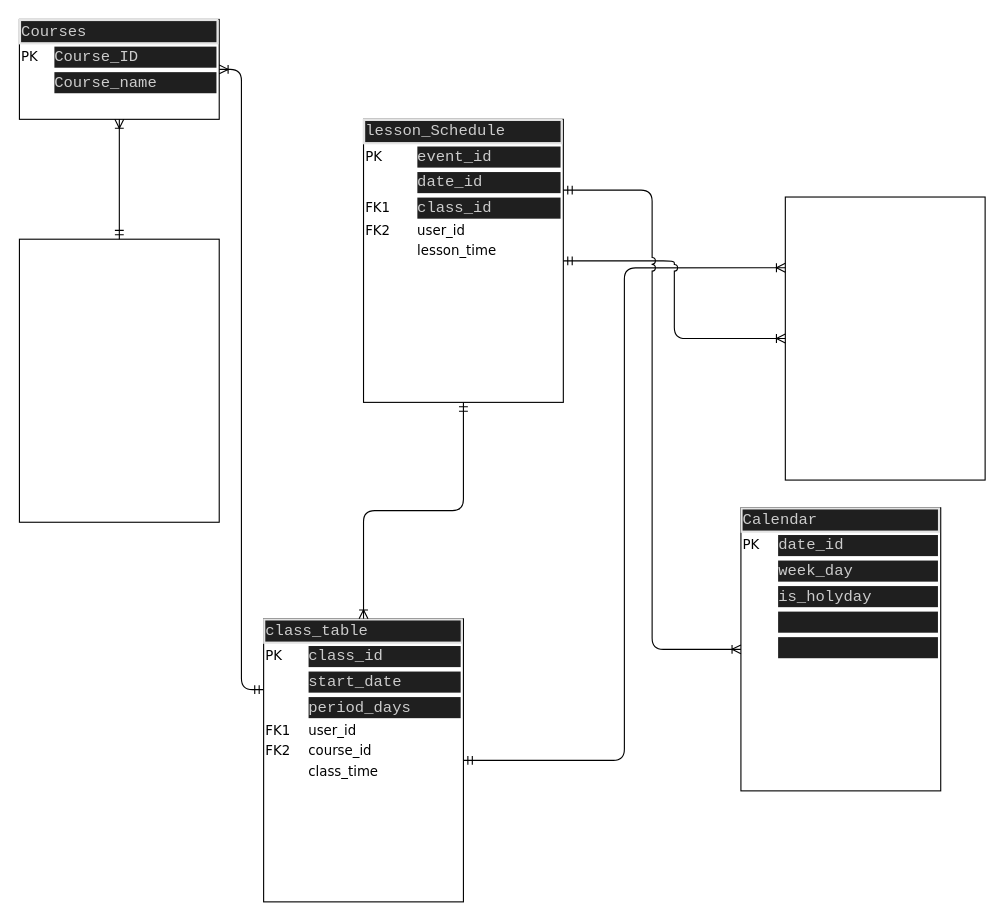
Image size: 1005x921. Some labels were removed from this diagram. The shapes that lost their labels are listed below. From the top down, each one's centre as x and y in pixels, then its label:
At (x=884, y=338): "Users PK user_id user_name is_admin telegram_id".
At (x=118, y=380): "Course_lessons PK lesson_id FK1 Course_ID Lesson_number Lesson_name Lesson_desc".
